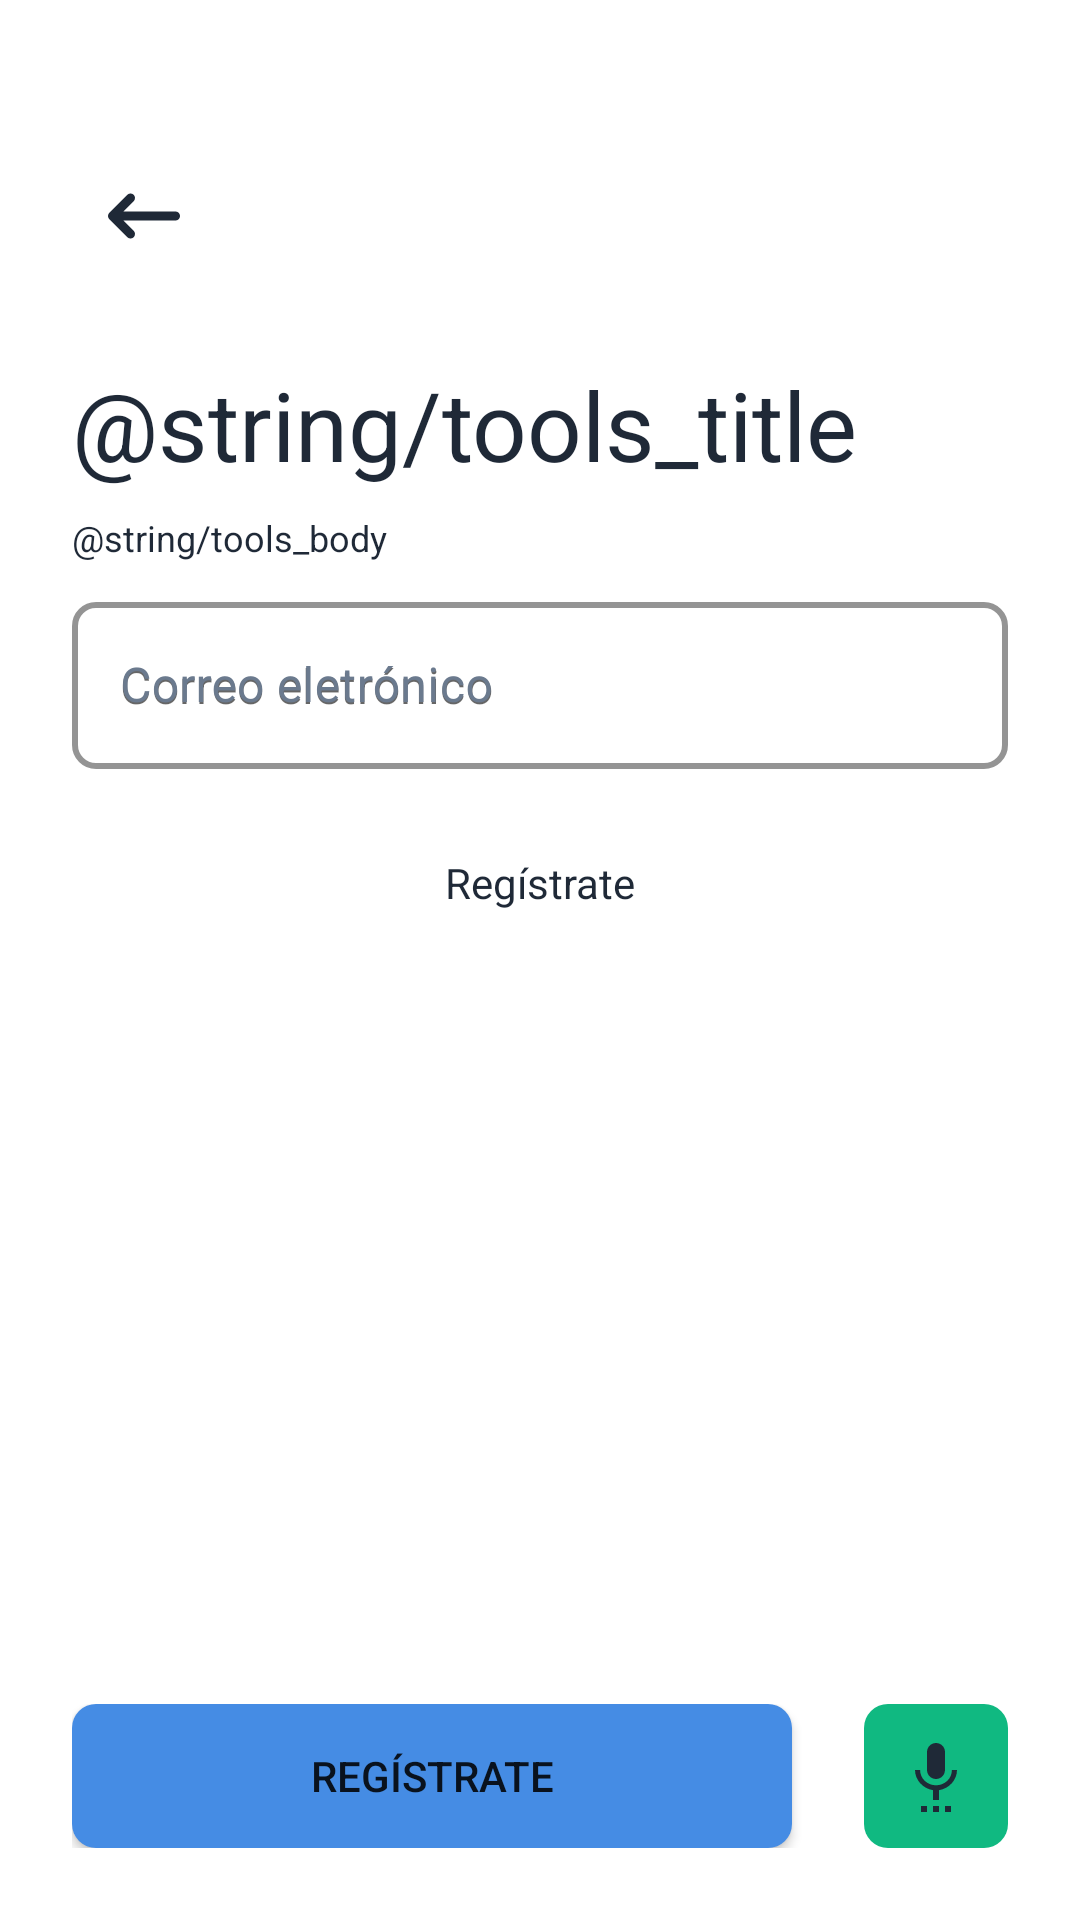

Named icons in this screenshot (1080 × 1920) and their bounding boxes, (left=x1, top=y1, right=x2, bottom=y2):
return: (left=108, top=193, right=180, bottom=239)
voice: (left=864, top=1704, right=1008, bottom=1848)
